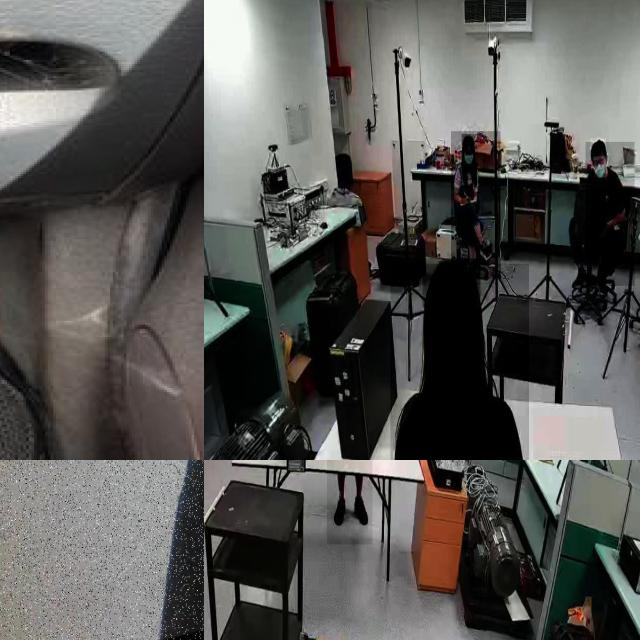face_mask: (462, 146, 478, 175), (594, 156, 608, 178)
hand_noglove: (461, 193, 471, 205)
head_nohelmet: (423, 258, 481, 308), (590, 138, 606, 154), (461, 134, 475, 146)
person: (390, 263, 529, 460), (451, 131, 501, 279), (585, 142, 635, 287), (327, 460, 373, 545)
shoes: (352, 491, 371, 527), (331, 492, 348, 528), (478, 237, 492, 264)
